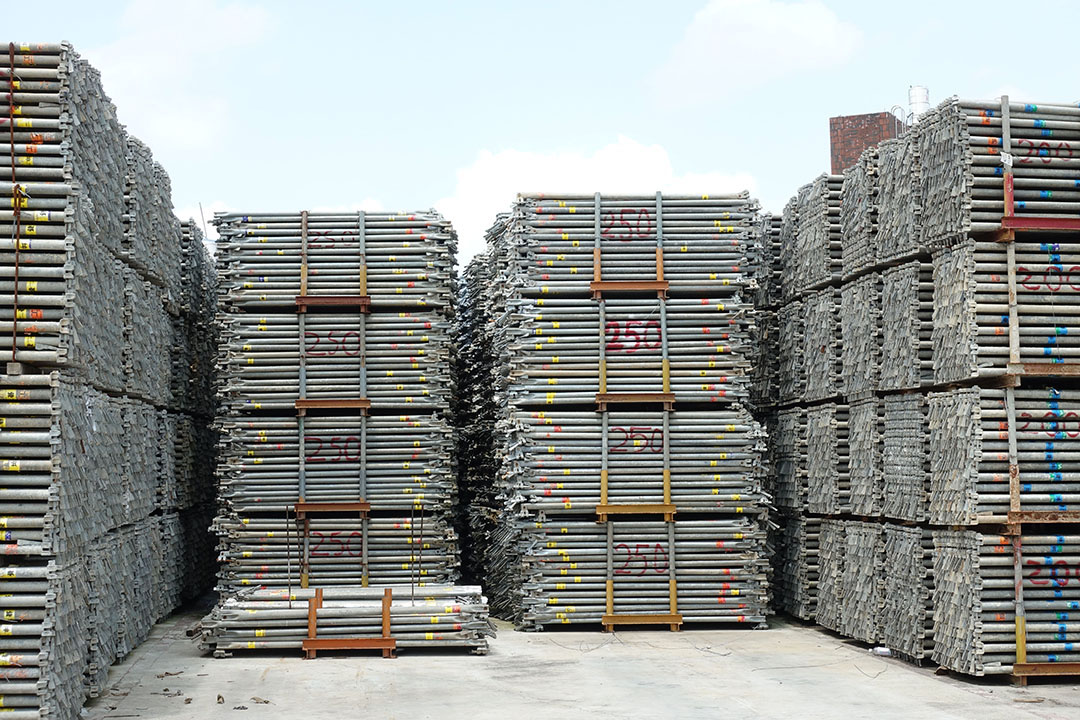building materials: (507, 521, 776, 631), (511, 411, 768, 522), (510, 300, 757, 411), (514, 189, 760, 299), (214, 208, 456, 314), (211, 517, 461, 619), (210, 415, 456, 518), (211, 313, 457, 415)
